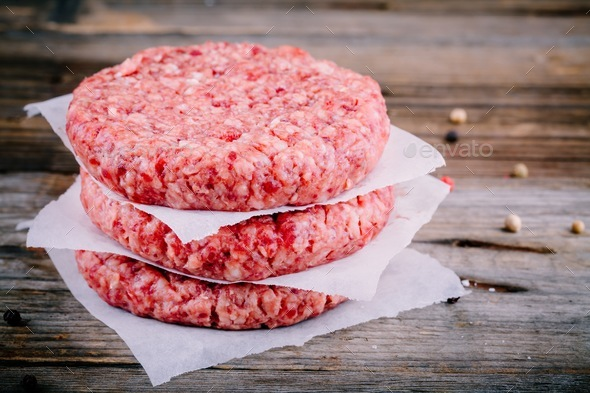ground_beef: (54, 24, 374, 188), (68, 163, 372, 281), (64, 241, 407, 331)
